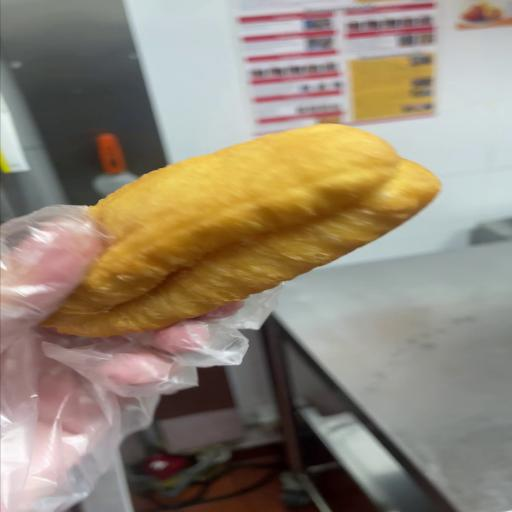brand_golden_good: (43, 124, 439, 337)
